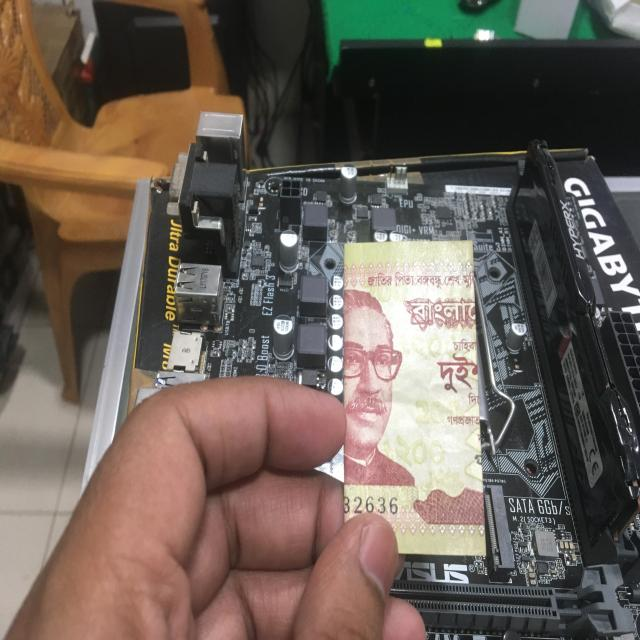Taka: (342, 238, 488, 560)
